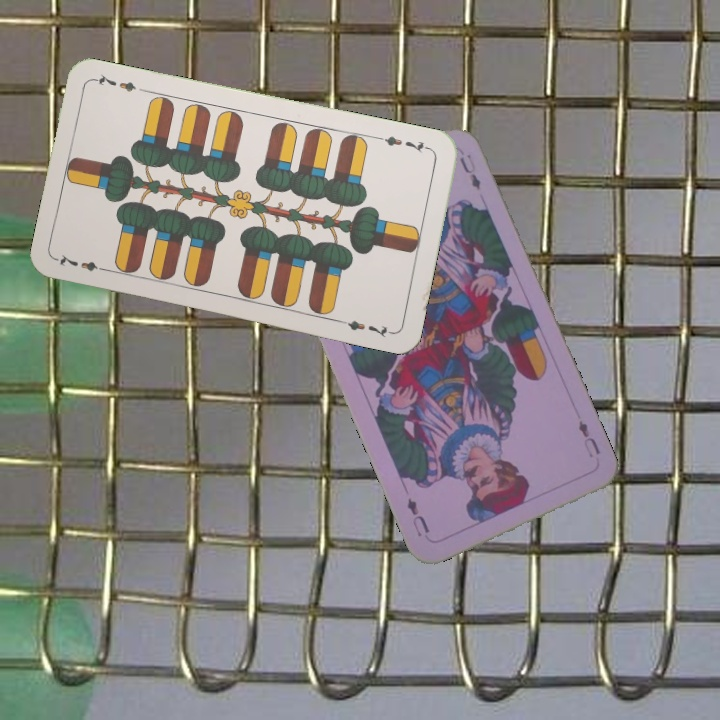E7: (53, 250, 112, 275), (375, 131, 433, 155)
EU: (574, 416, 603, 460)
